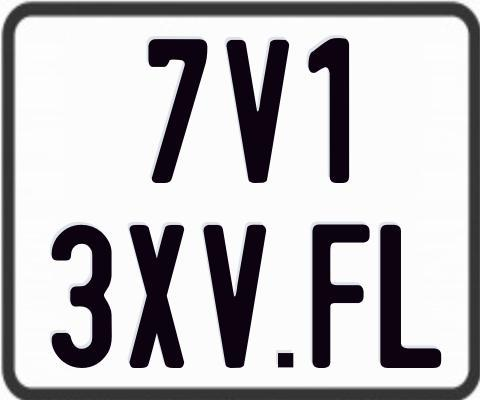1: (307, 35, 351, 181)
3: (50, 222, 116, 368)
7: (147, 36, 207, 181)
F: (310, 223, 373, 369)
L: (379, 222, 443, 370)
V: (203, 225, 270, 373), (225, 38, 292, 185)
X: (128, 223, 184, 370)
